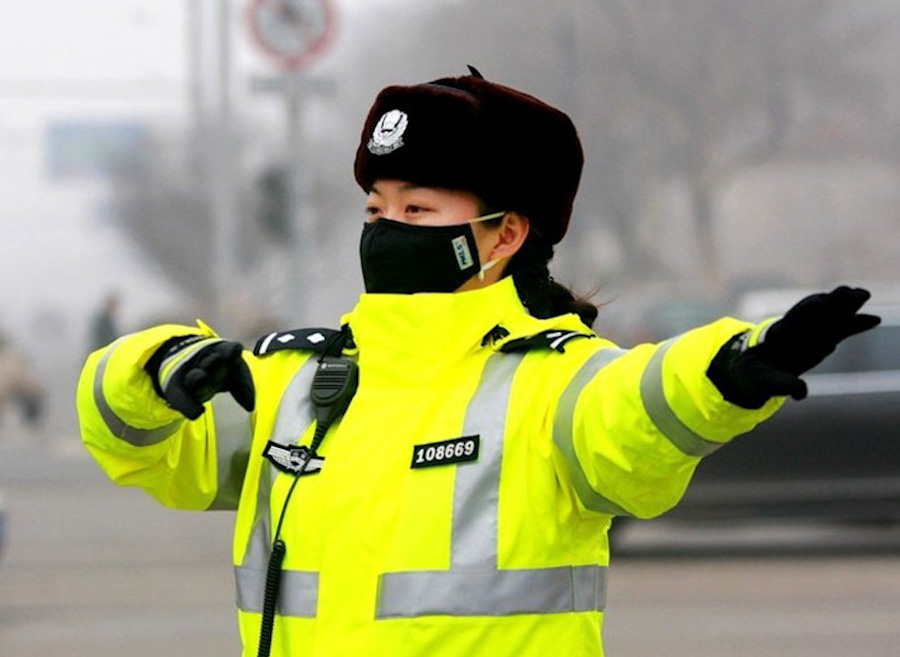face_mask: (354, 145, 482, 304)
